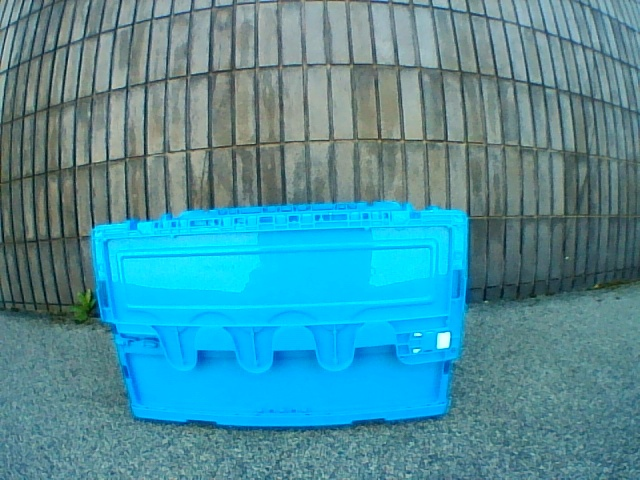blue_box: (90, 201, 468, 428)
